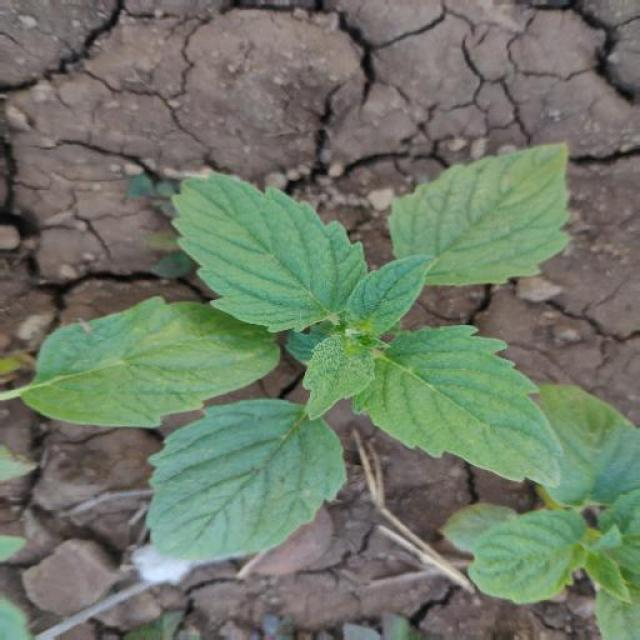crop: (25, 139, 625, 591)
